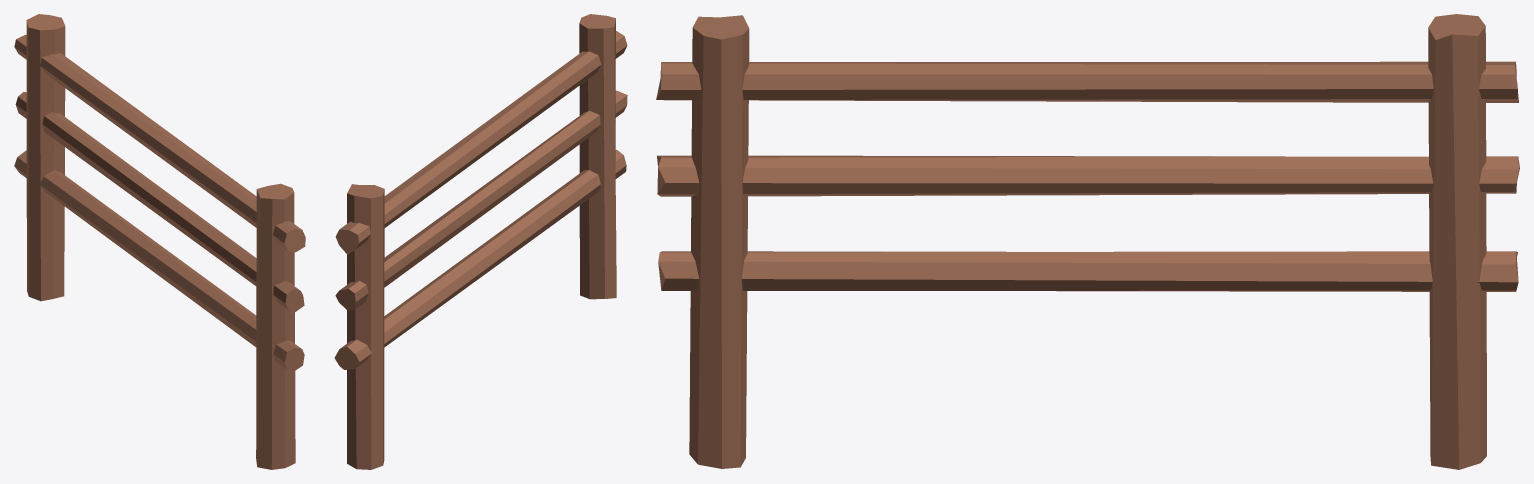
The model's file is Fence1.fbx.
3 renders of one model, left to right at view 1: azimuth 30°, elevation 25°; view 2: azimuth 150°, elevation 25°; view 3: azimuth 270°, elevation 25°, orthographic. The views are drawn at different scales.
Visible parts, largest first — view 1: Fence 1; view 2: Fence 1; view 3: Fence 1.
Boxes of the visible parts, x1,y1,x2,y2 form: Fence 1: [14, 14, 305, 469]; Fence 1: [334, 14, 627, 469]; Fence 1: [656, 14, 1519, 469].
Bounding box in the file's own units: 5.38 × 39.8 × 71.5.
